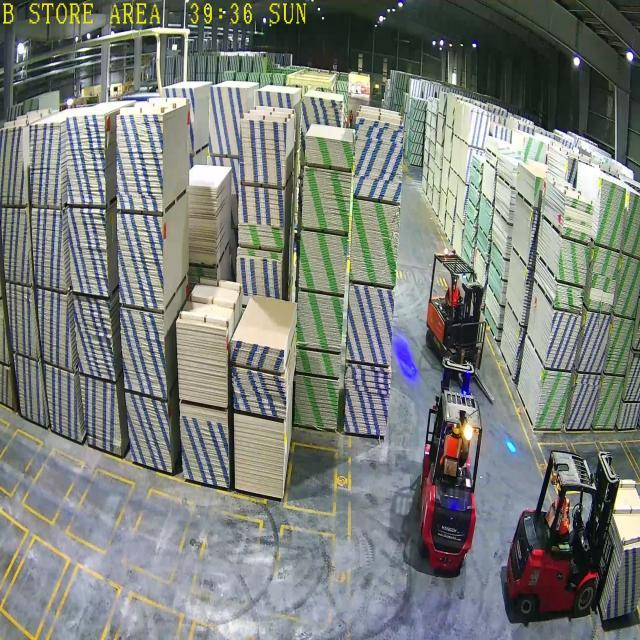stack: (349, 199, 400, 285), (354, 117, 403, 204), (233, 414, 283, 497), (346, 281, 393, 367), (344, 361, 391, 437), (239, 118, 287, 187), (301, 166, 350, 231), (299, 231, 347, 294), (298, 290, 342, 351), (232, 367, 286, 415), (294, 375, 338, 431), (533, 372, 571, 430), (596, 178, 625, 249), (588, 247, 619, 313), (546, 313, 581, 371), (236, 254, 281, 298), (238, 185, 284, 226), (229, 338, 284, 372), (578, 313, 609, 373), (566, 375, 600, 429), (303, 134, 352, 169), (563, 195, 593, 242), (558, 240, 589, 285), (297, 349, 341, 377), (238, 226, 284, 250), (555, 284, 583, 313)
